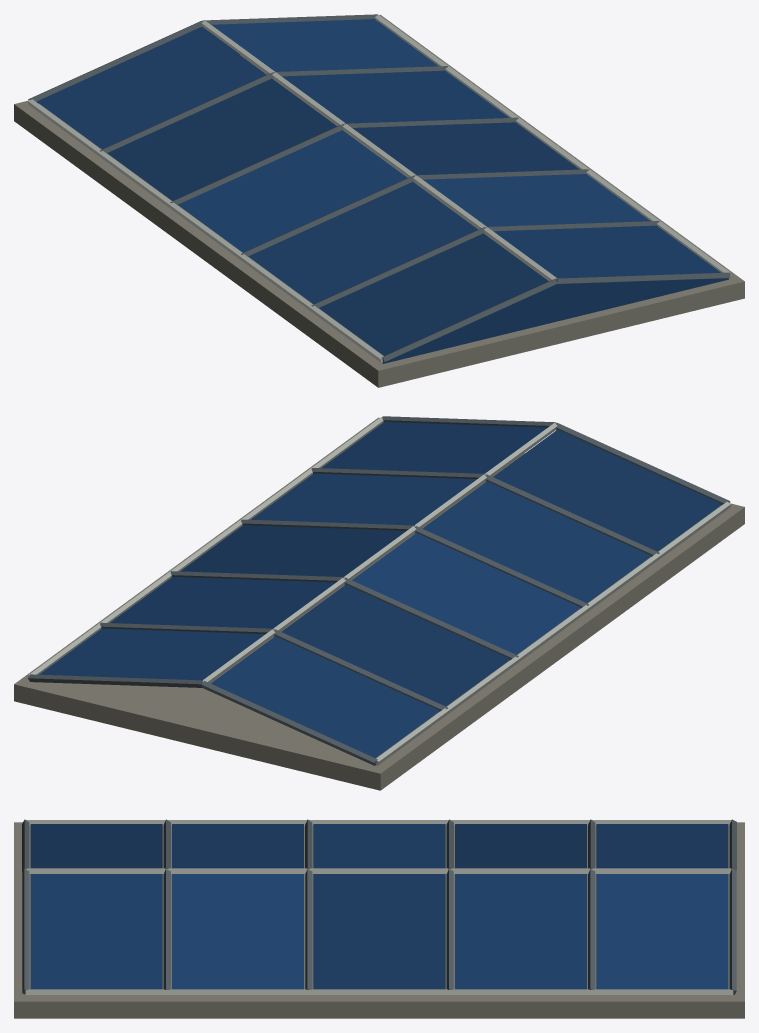
Rendered from skylight.glb.
3 views of the same model, one above another, from view 1: azimuth 30°, elevation 25°; view 2: azimuth 150°, elevation 25°; view 3: azimuth 270°, elevation 25° (orthographic).
Visible parts, largest first — view 1: skylight; view 2: skylight; view 3: skylight.
Boxes of the visible parts, bbox=[...] form: skylight: bbox=[14, 14, 744, 387]; skylight: bbox=[14, 416, 744, 790]; skylight: bbox=[14, 819, 744, 1018].
Bounding box in the file's own units: 36 × 5.71 × 62.
